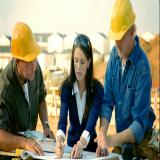Helmet: (11, 20, 44, 63)
